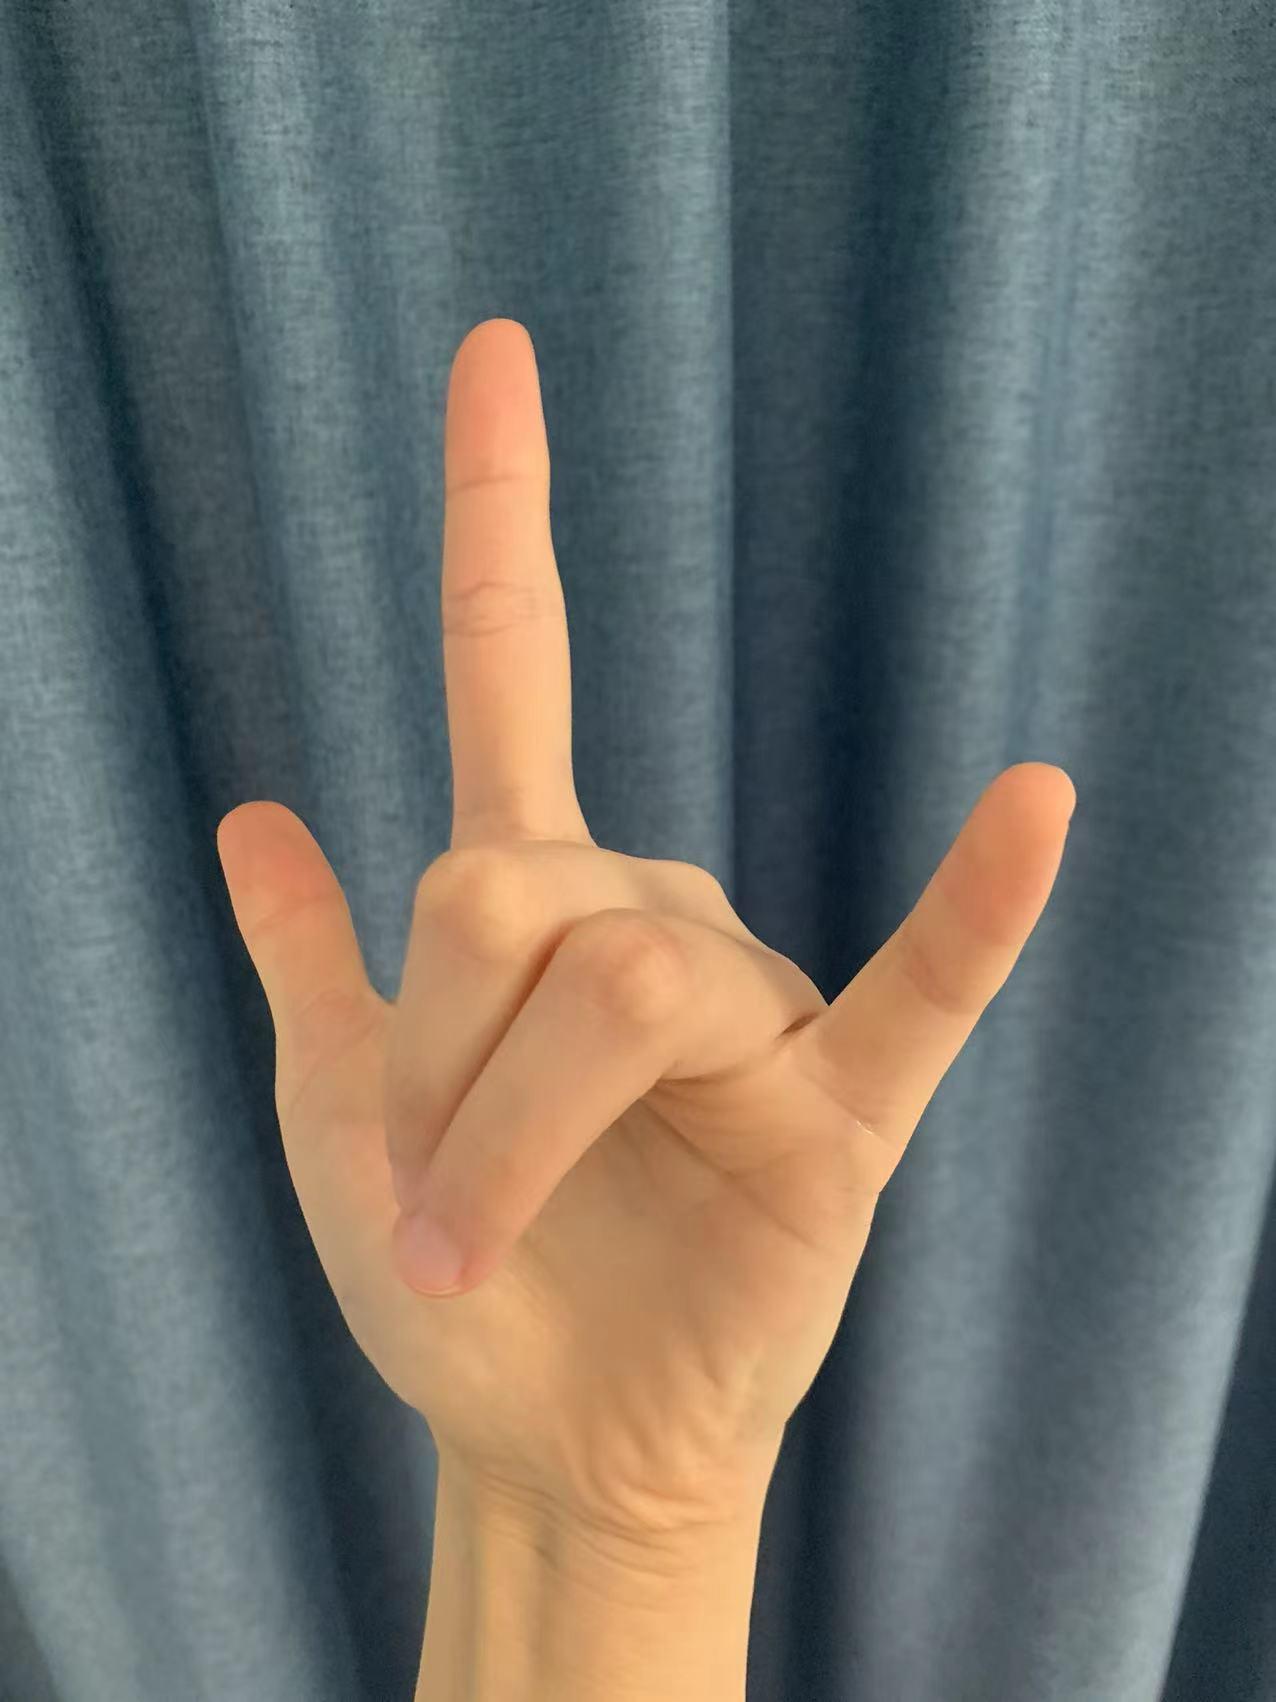back: (209, 318, 1058, 1462)
